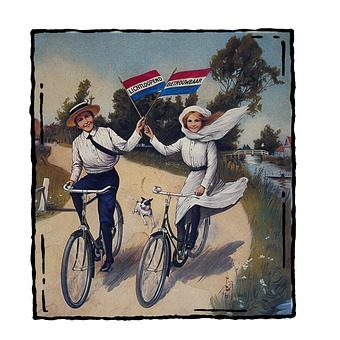bicycle: (56, 180, 125, 311), (140, 182, 209, 307)
dog: (131, 192, 157, 228)
person: (145, 104, 246, 255), (64, 97, 145, 272)
